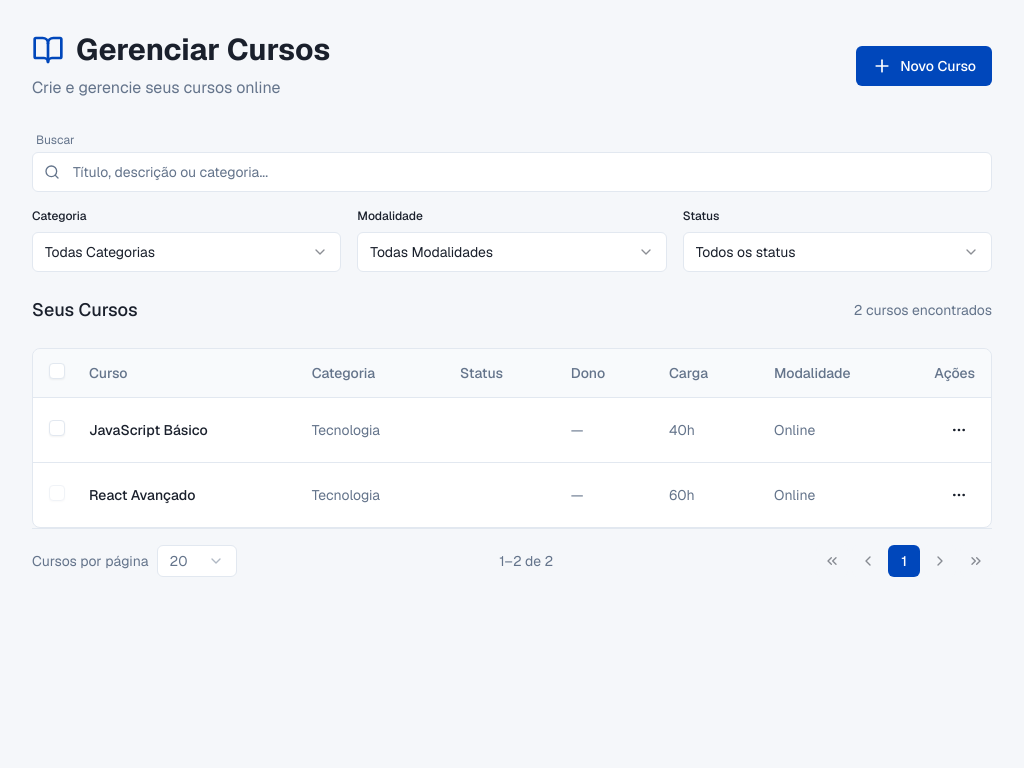
Test: Integration - Courses page › bulk selection and delete › selects only the deletable courses via "select all" and shows the bulk bar
Expected: the text "JavaScript Básico" is shown, [89,420,208,440]
Click the checkbox named "Selecionar todos" at (57, 371), box [49,363,65,379]
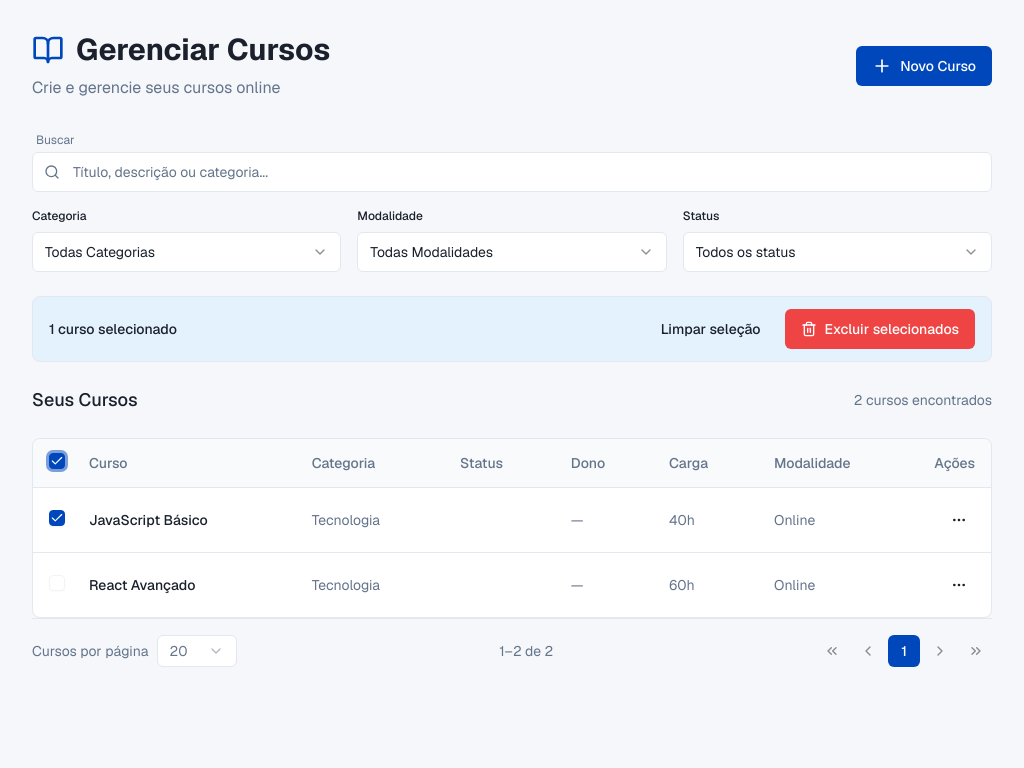
Now the checkbox named "Selecionar JavaScript Básico" is checked, box [49,510,65,526]
Now the text "1 curso selecionado" is shown, box [49,319,177,339]
